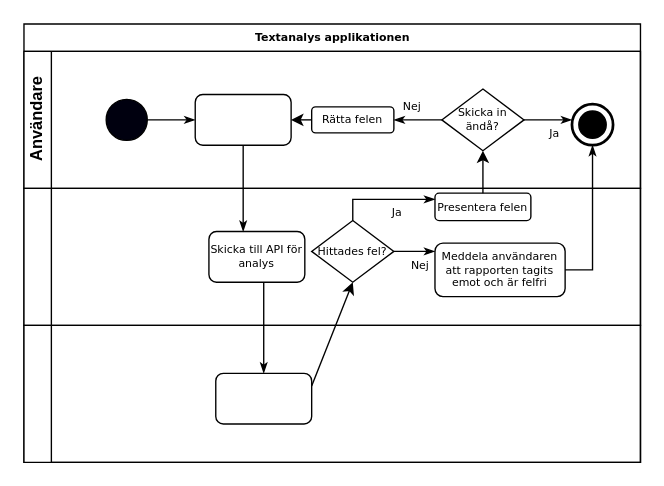
This 664x486 diagram has some shape labels left out. Here are the shapes that lost their labels. From the top down, the box of each, then its label:
(194, 93, 291, 145): Lämna in rapport
(23, 187, 640, 325): Webbapplikation
(214, 372, 312, 424): Analysera
(23, 324, 640, 462): API
